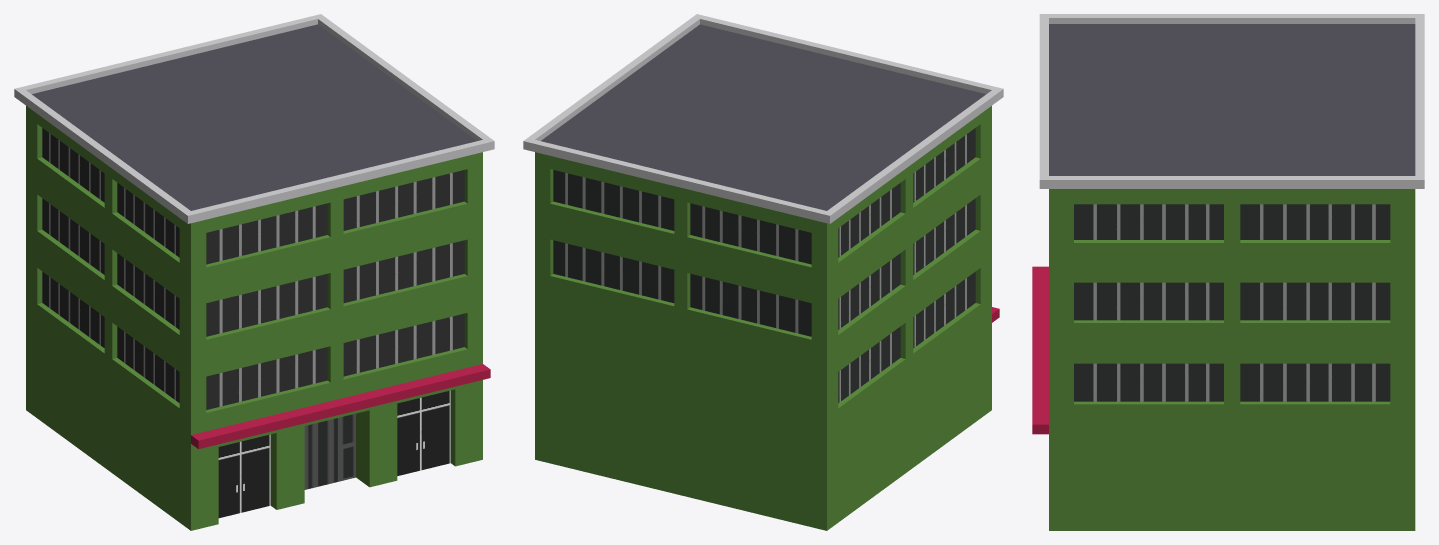
Rendered from building15a.FBX.
3 renders of one model, left to right at view 1: azimuth 30°, elevation 25°; view 2: azimuth 150°, elevation 25°; view 3: azimuth 270°, elevation 25°, orthographic. The views are drawn at different scales.
Parts seen in each view (by area): view 1: building15a; view 2: building15a; view 3: building15a.
Part boxes in pixels (left/top/right/bottom): building15a: left=14, top=14, right=494, bottom=530; building15a: left=523, top=14, right=1003, bottom=530; building15a: left=1032, top=14, right=1424, bottom=530.
Bounding box in the file's own units: 21.01 × 20.94 × 20.98.
